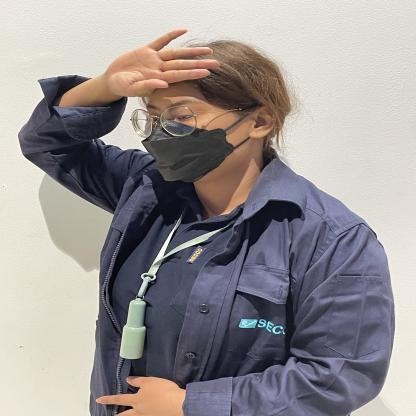Sick: (43, 11, 248, 108)
